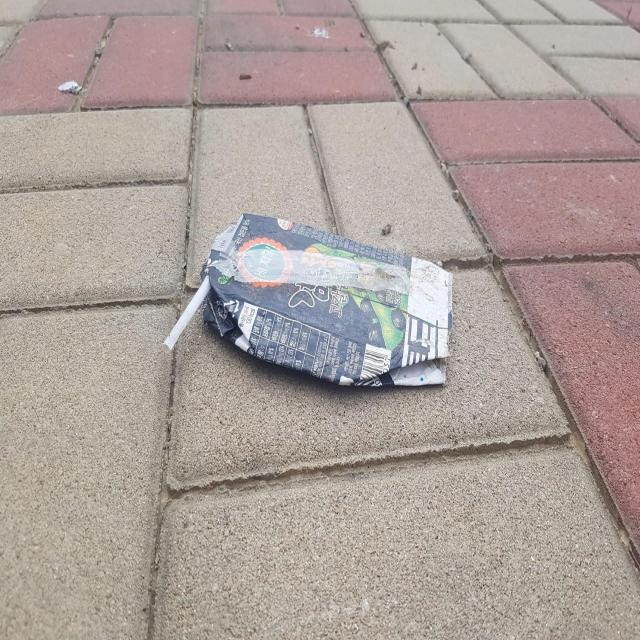paperpack: (201, 212, 453, 385)
